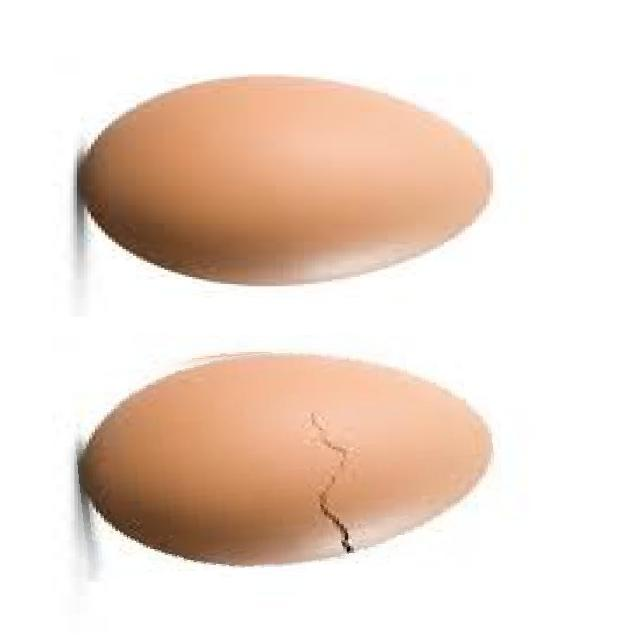biodegradable: (69, 338, 501, 572)
